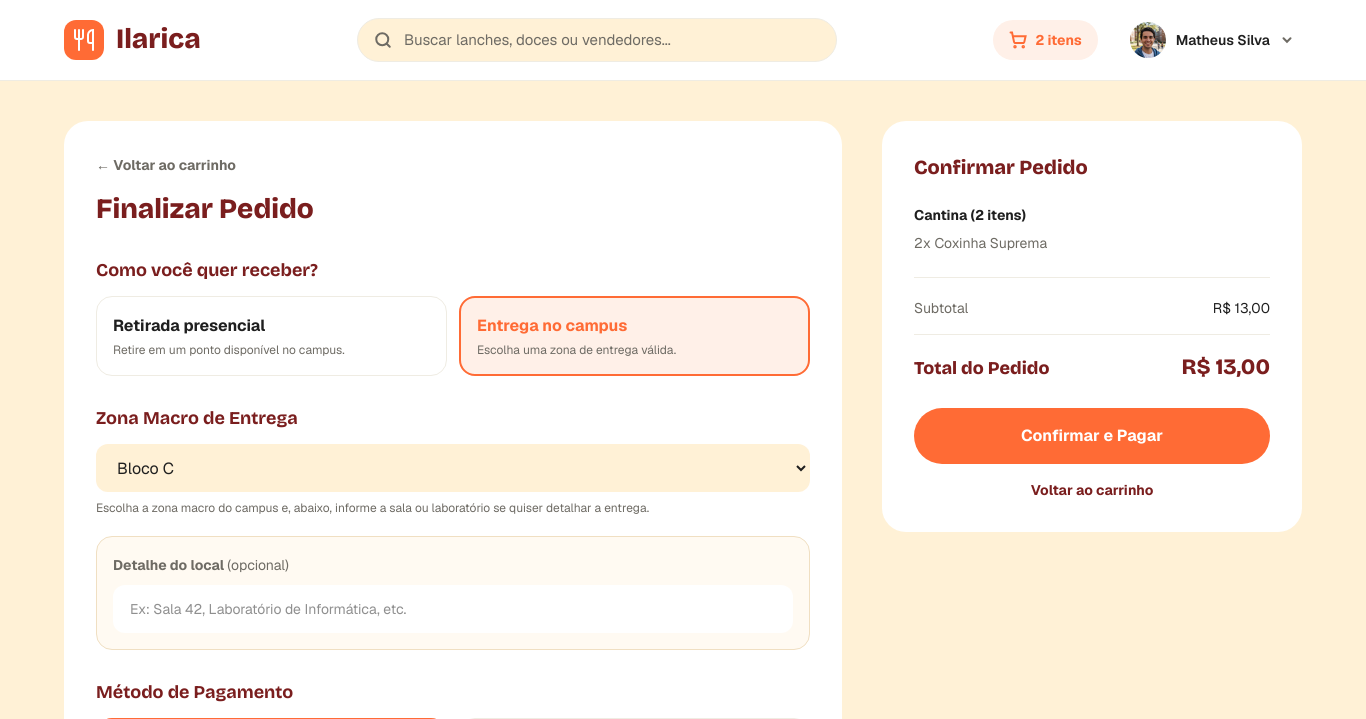
Test case: CheckoutPage › keeps the cart when the API rejects an unavailable product
Click the button "Confirmar e Pagar": coordinates (1092, 436) [914,408,1270,464]
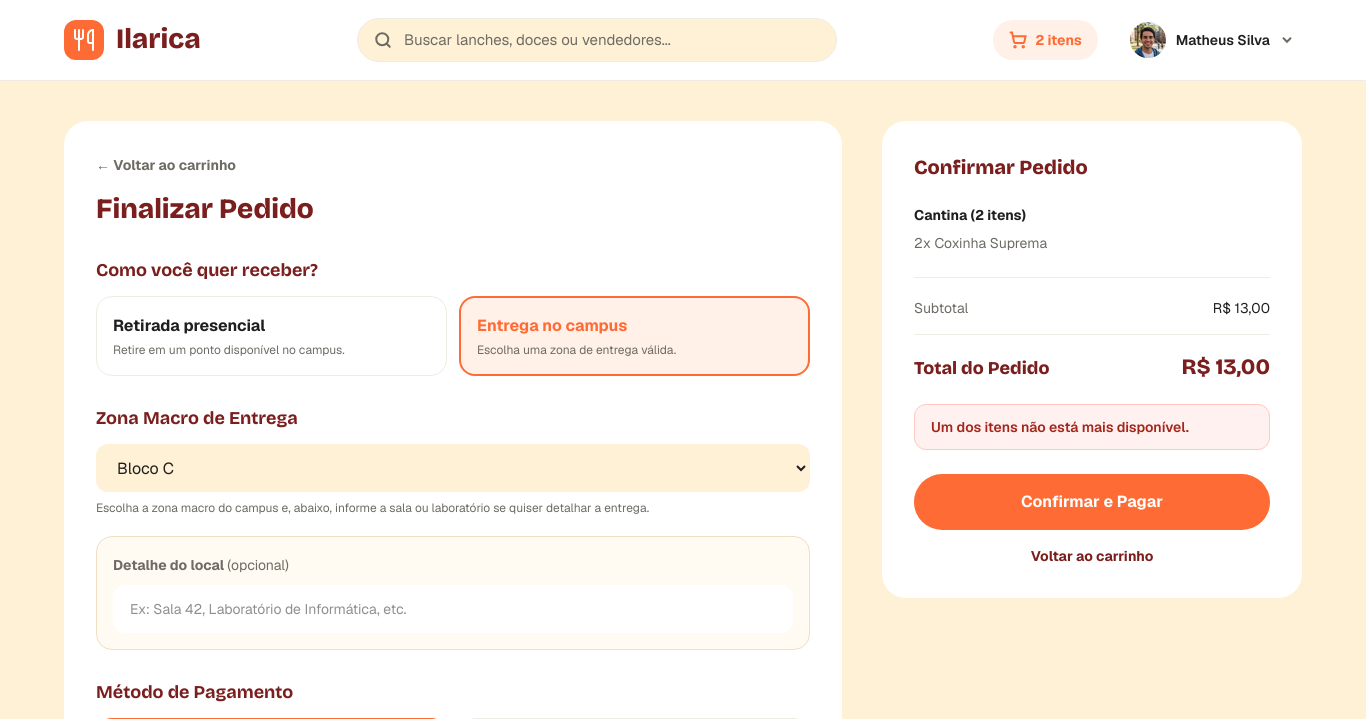
Check: the message shows "não está mais disponível", box [931,418,1189,436]
